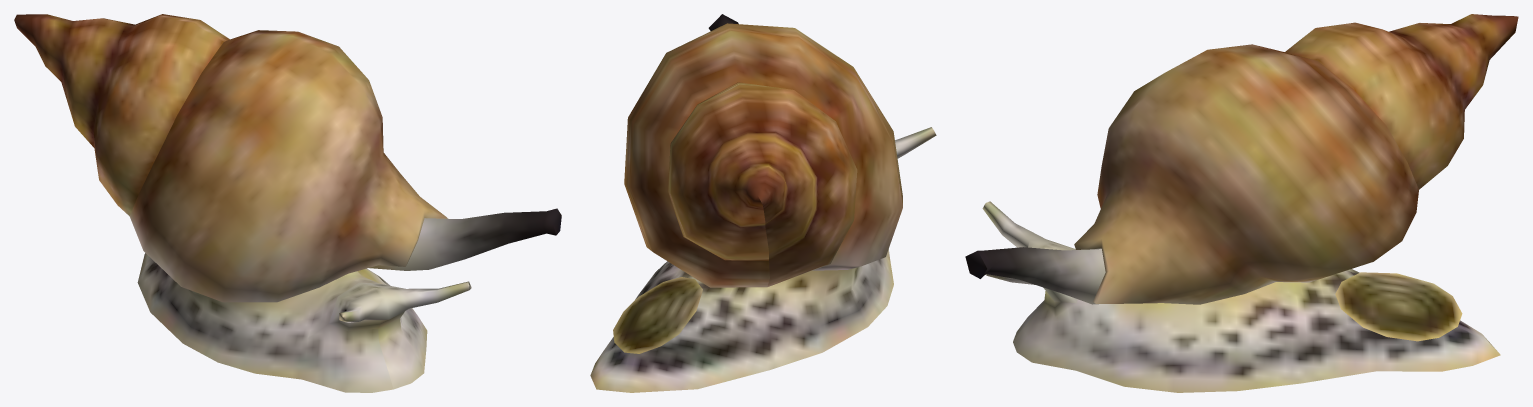
File: whelk.glb
3 views of the same model, side by side, from view 1: azimuth 30°, elevation 25°; view 2: azimuth 150°, elevation 25°; view 3: azimuth 270°, elevation 25° (orthographic). The views are drawn at different scales.
Bounding box in the file's own units: 2.73 × 2.32 × 4.05.
1 material, 1 textured.
